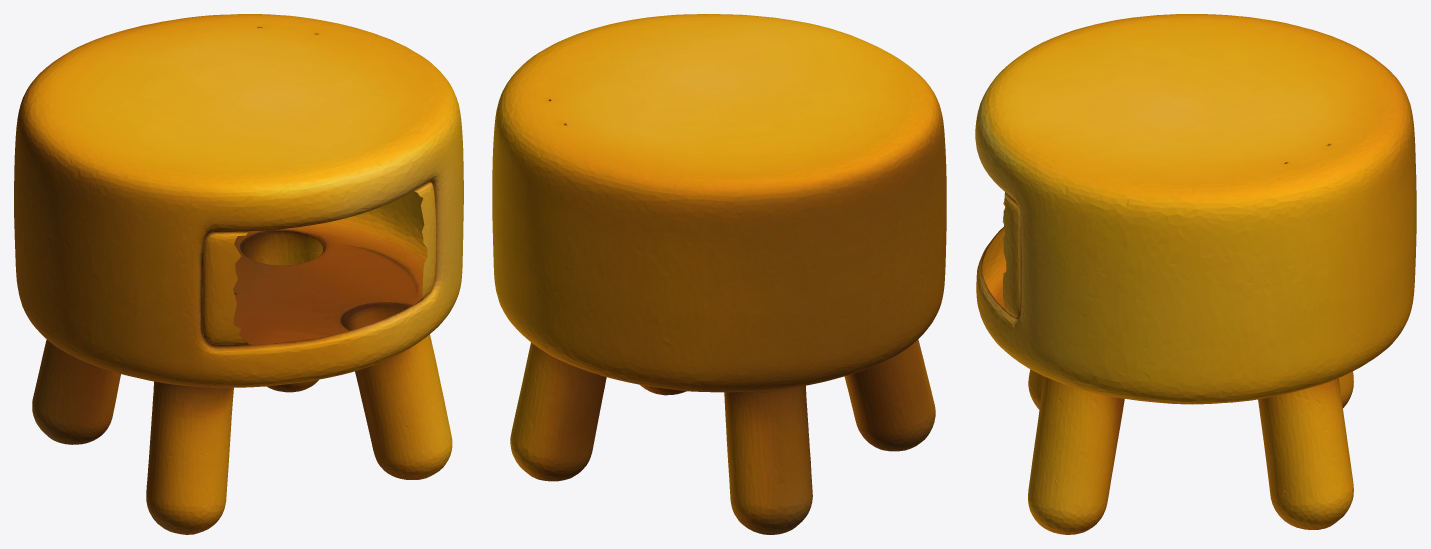
Rendered from body.glb.
The picture shows the model from 3 angles, left to right: view 1: azimuth 30°, elevation 25°; view 2: azimuth 150°, elevation 25°; view 3: azimuth 270°, elevation 25°; orthographic projection. The views are drawn at different scales.
Parts seen in each view (by area): view 1: source_surface_0; view 2: source_surface_0; view 3: source_surface_0.
Part boxes in pixels (x1,y1,x2,y2): source_surface_0: (14,14,463,534); source_surface_0: (492,14,946,534); source_surface_0: (975,14,1416,534).
Size of the model in its own units: 0.35 by 0.3097 by 0.3324.
1 material, 1 textured.
